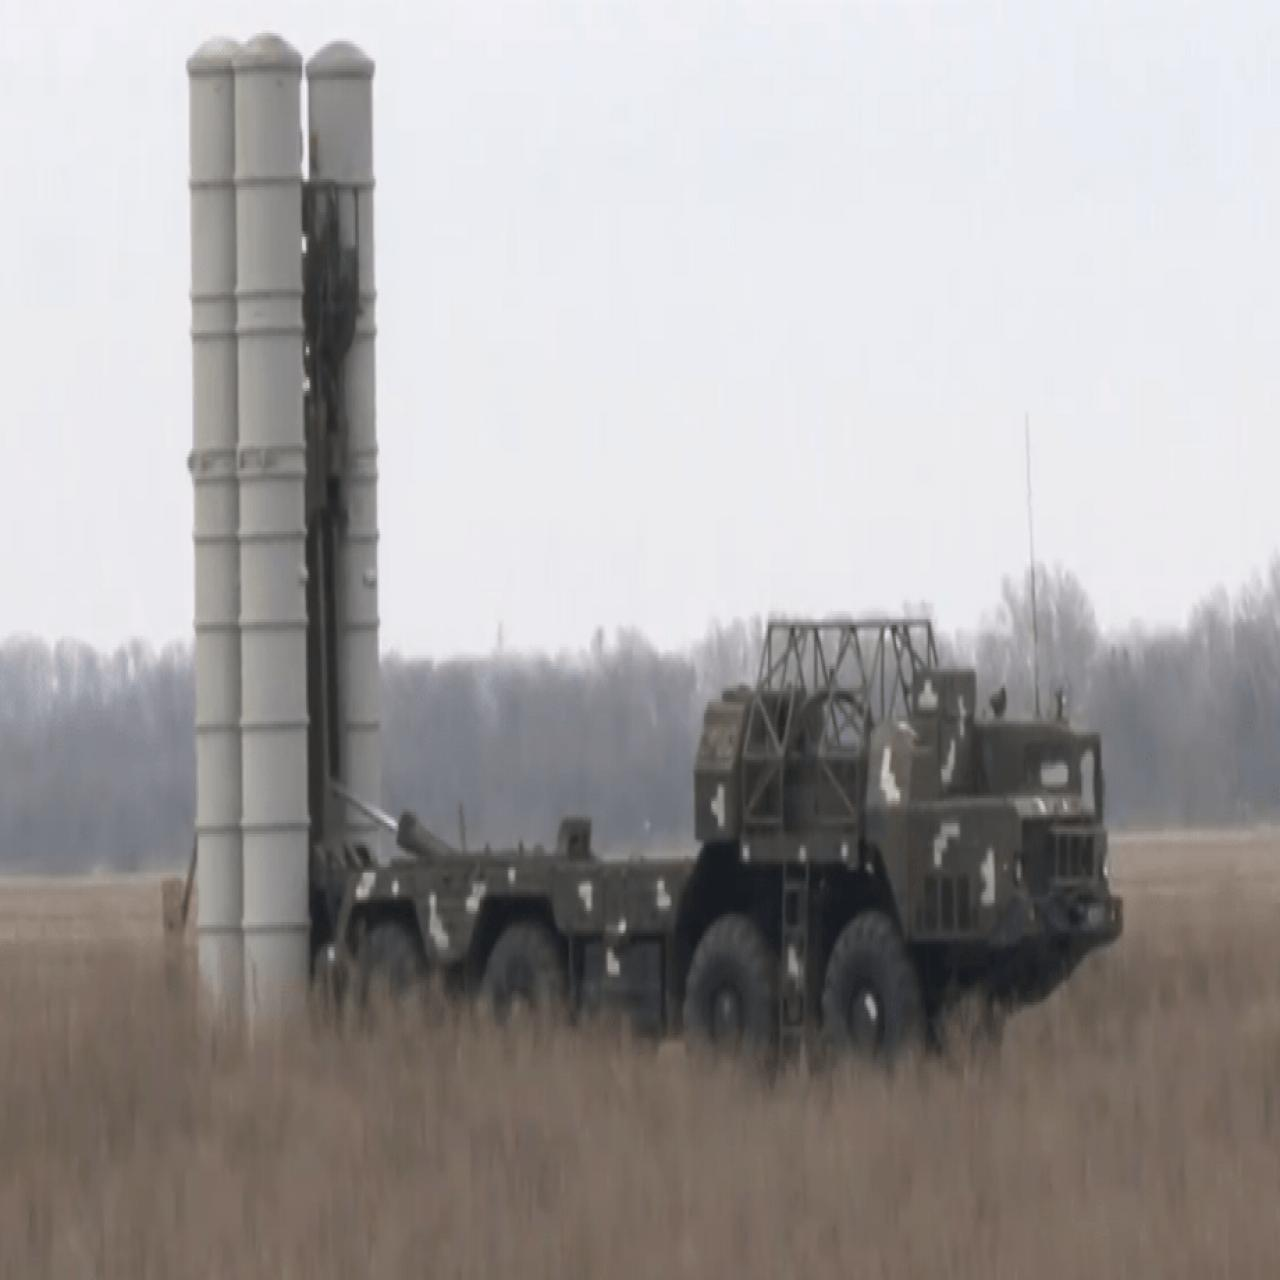MIL_Veh: (185, 43, 1126, 1056)
